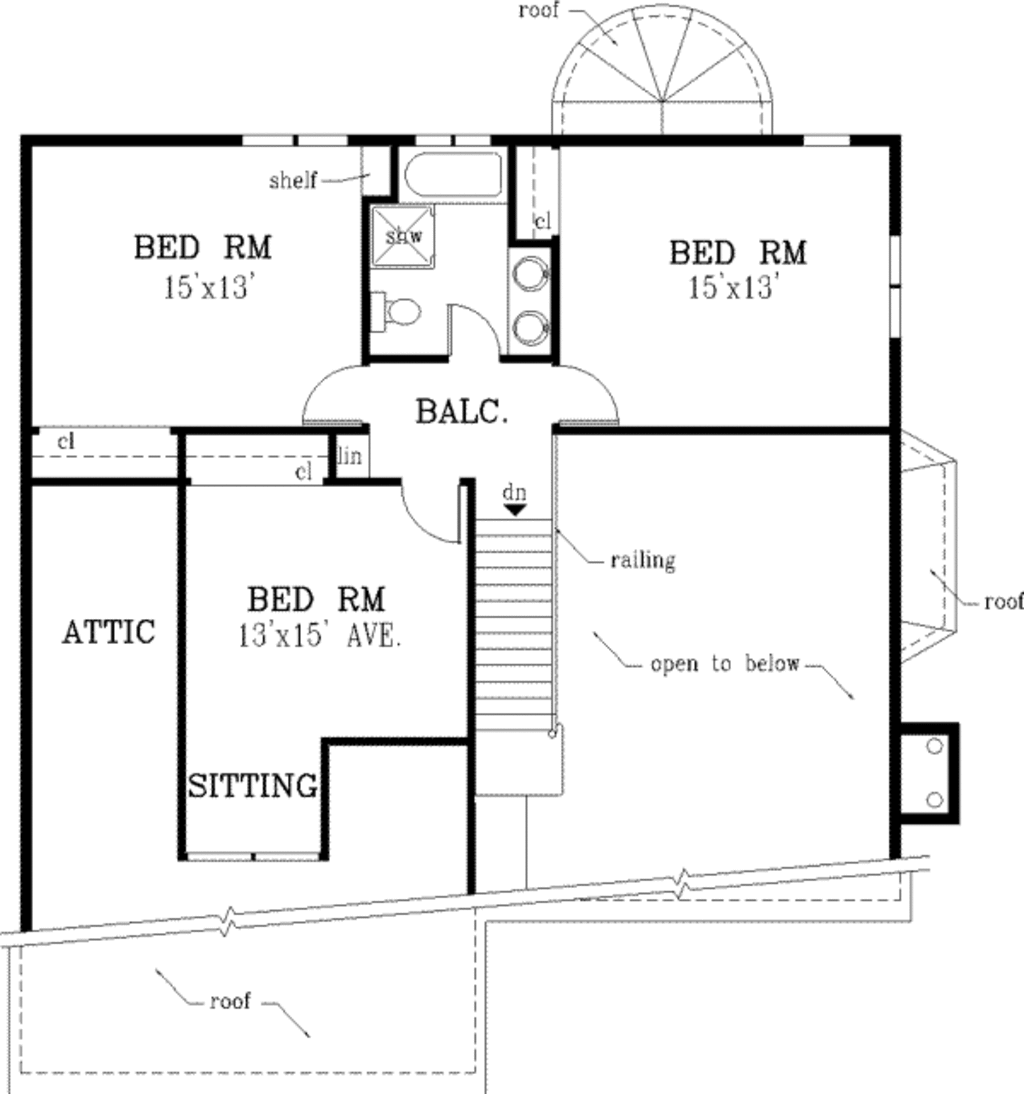door: (547, 362, 635, 439), (283, 360, 379, 430), (390, 475, 470, 555), (442, 305, 505, 371)
large_sink: (362, 287, 429, 339)
small_sink: (510, 244, 563, 364)
stairs: (532, 1, 790, 135), (470, 482, 574, 802)
tub: (400, 147, 505, 203)
window: (239, 130, 356, 153), (181, 845, 318, 862), (409, 132, 502, 150), (795, 133, 862, 150), (891, 235, 899, 342)
